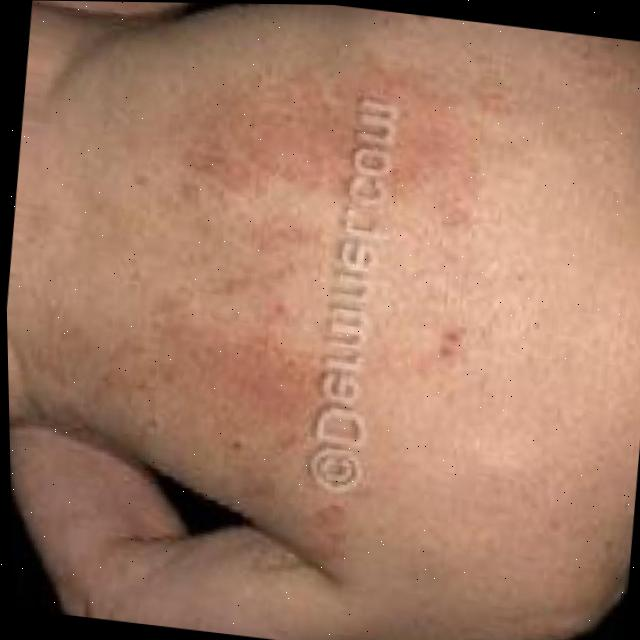Eczema: (189, 38, 483, 206), (126, 261, 323, 471)
